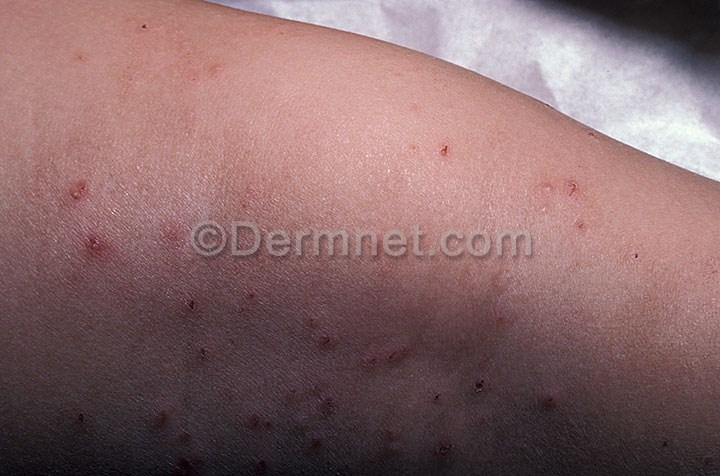edema 1: (20, 119, 582, 475)
